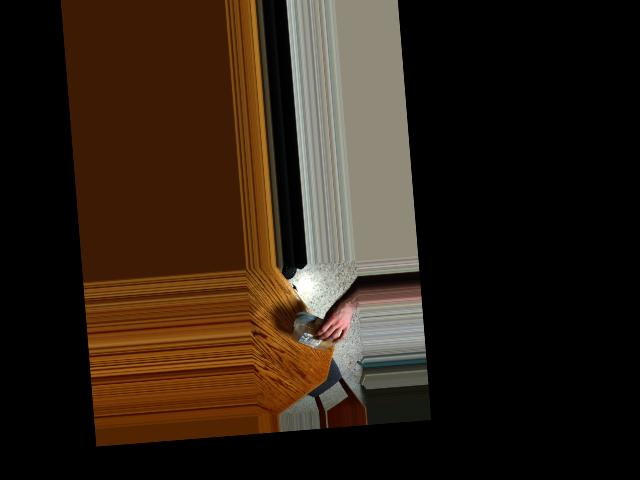cheese: (292, 313, 336, 346)
